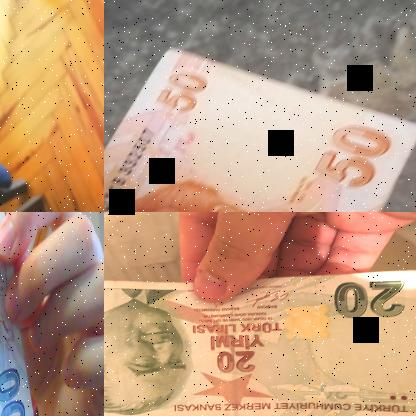5 TL: (104, 47, 415, 211)
